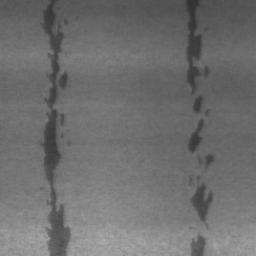Iron scale compression: (44, 0, 71, 256), (186, 0, 202, 94), (190, 183, 213, 229), (188, 119, 205, 153), (191, 235, 206, 256), (192, 96, 203, 114), (204, 154, 214, 171)
